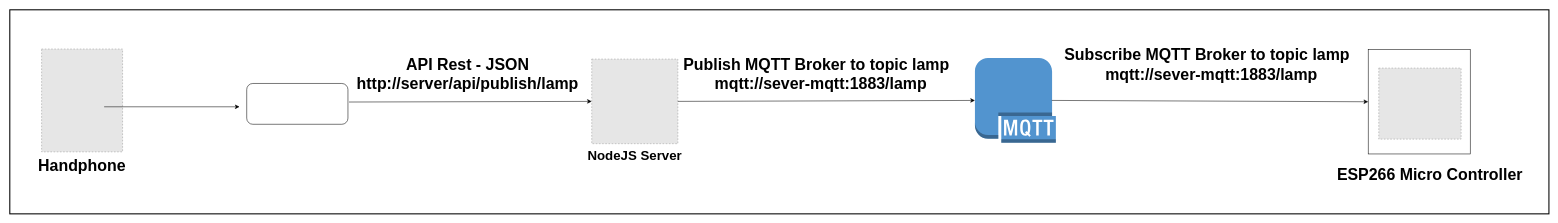
Some shapes in this 1558 by 223 pixel diagram are drawn without their labels. Grey dashed boxes stand in for pictures. The shapes that lost their labels are listed below. From the top down, each one's centre as x and y in pixels, then its label:
At pixel 297 103: "Apps Frontend".
At pixel 1015 100: "MQTT Broker Server".
